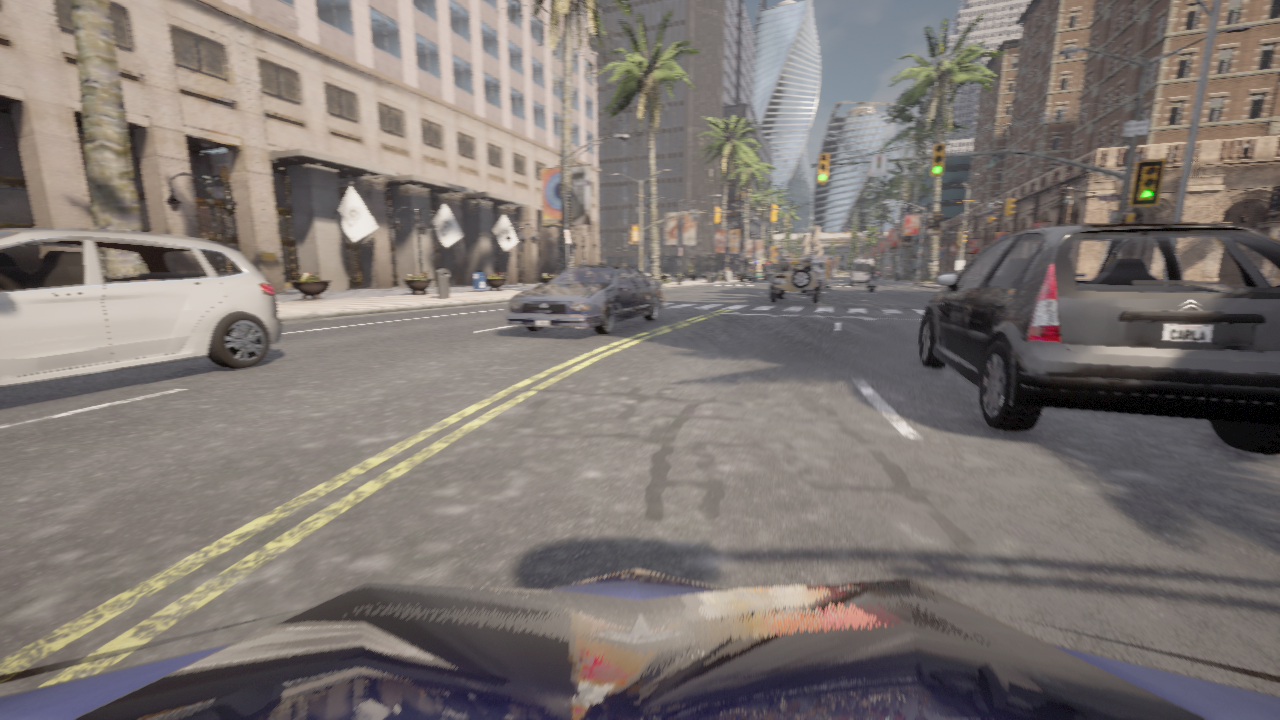cyclist: (0, 569, 1279, 719), (919, 223, 1279, 454), (0, 228, 281, 386), (505, 265, 665, 334), (769, 257, 822, 303), (801, 256, 836, 289), (849, 259, 872, 285), (739, 271, 757, 281), (868, 277, 875, 292), (763, 271, 774, 279)
